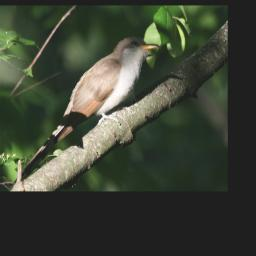Cuckoo: (15, 36, 160, 183)
